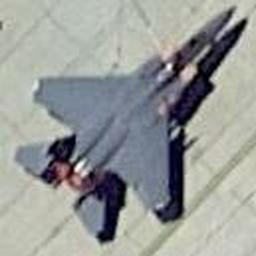Airplane: (18, 4, 249, 243)
